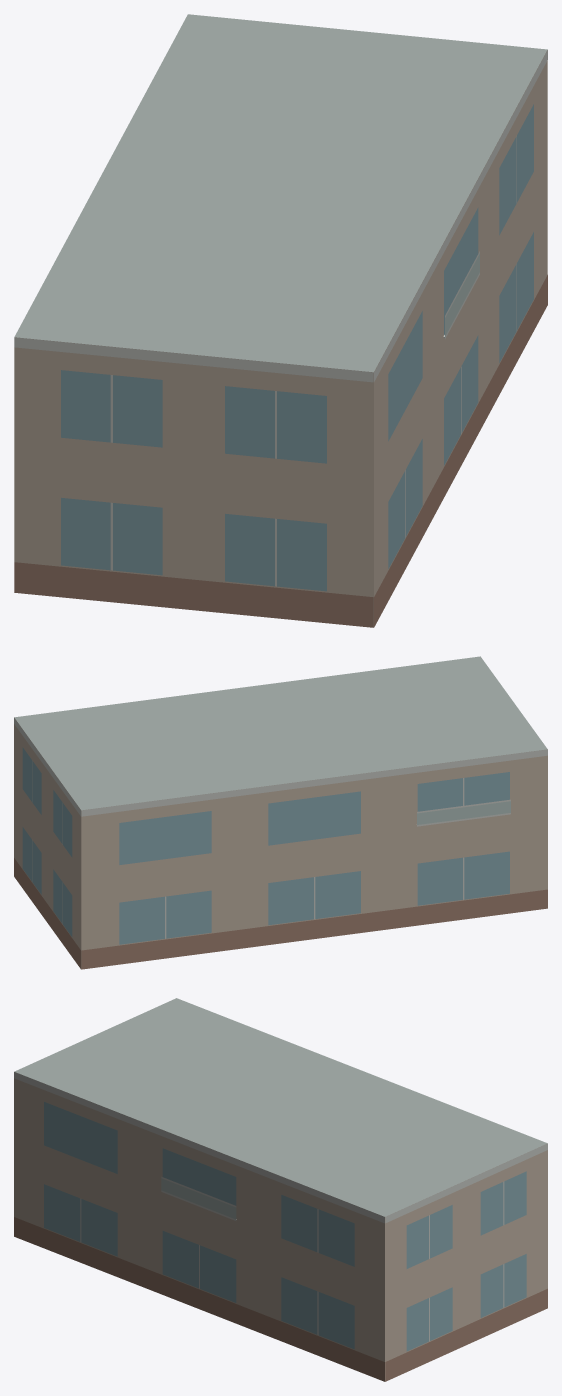
File: survey-upis-32706011.glb
3 renders of one model, top to bottom at view 1: azimuth 30°, elevation 25°; view 2: azimuth 150°, elevation 25°; view 3: azimuth 270°, elevation 25°, orthographic. The views are drawn at different scales.
Visible parts, largest first — view 1: survey-upis-32706011.tmp; view 2: survey-upis-32706011.tmp; view 3: survey-upis-32706011.tmp.
Boxes of the visible parts, bbox=[...] form: survey-upis-32706011.tmp: bbox=[14, 14, 547, 627]; survey-upis-32706011.tmp: bbox=[14, 656, 547, 969]; survey-upis-32706011.tmp: bbox=[14, 998, 547, 1381].
Bounding box in the file's own units: 17.38 × 6.1 × 17.9.
